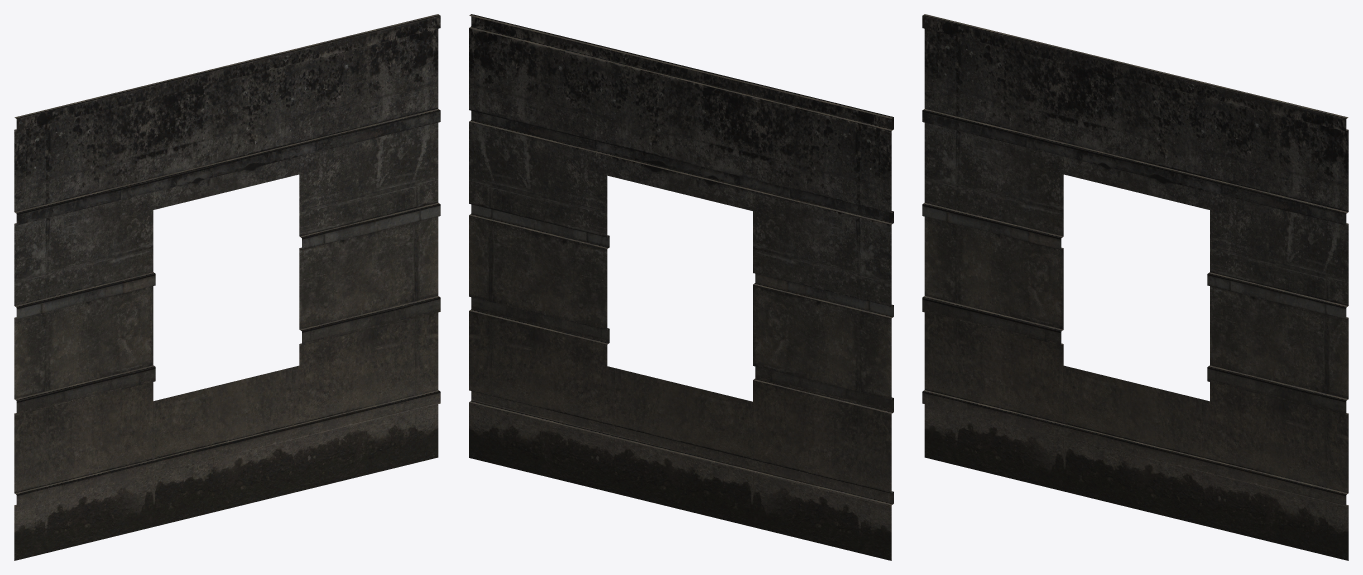
Rendered from tunnel_wall_lift_doorway.DAE.
The picture shows the model from 3 angles, left to right: view 1: azimuth 30°, elevation 25°; view 2: azimuth 150°, elevation 25°; view 3: azimuth 330°, elevation 25°; orthographic projection.
Visible parts, largest first — view 1: tunnel_wall_lift_doorway; view 2: tunnel_wall_lift_doorway; view 3: tunnel_wall_lift_doorway.
Boxes of the visible parts, x1,y1,x2,y2 form: tunnel_wall_lift_doorway: [14, 14, 440, 560]; tunnel_wall_lift_doorway: [469, 14, 893, 560]; tunnel_wall_lift_doorway: [922, 14, 1348, 560].
Bounding box in the file's own units: 4 × 0.039 × 4.
